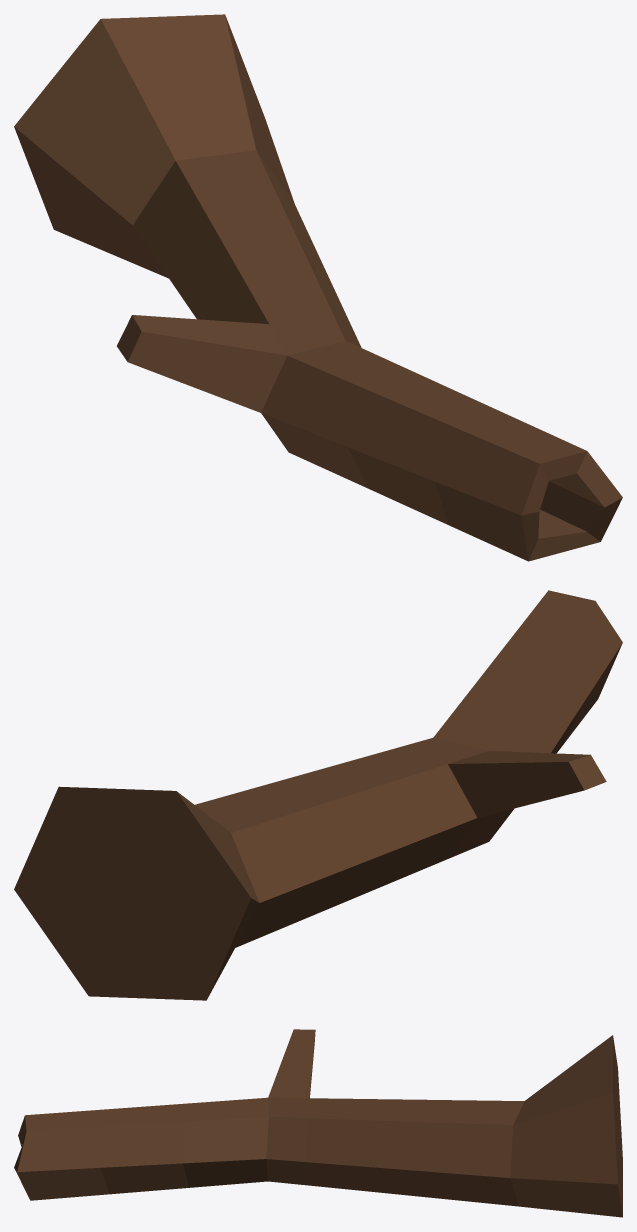
The model's file is FallenTree_1.fbx.
The picture shows the model from 3 angles, top to bottom: view 1: azimuth 30°, elevation 25°; view 2: azimuth 150°, elevation 25°; view 3: azimuth 270°, elevation 25°; orthographic projection. The views are drawn at different scales.
Visible parts, largest first — view 1: FallenTree_1; view 2: FallenTree_1; view 3: FallenTree_1.
Boxes of the visible parts, bbox=[...] form: FallenTree_1: bbox=[14, 14, 622, 561]; FallenTree_1: bbox=[14, 590, 622, 1000]; FallenTree_1: bbox=[14, 1029, 622, 1217].
Bounding box in the file's own units: 286 × 166 × 592.
